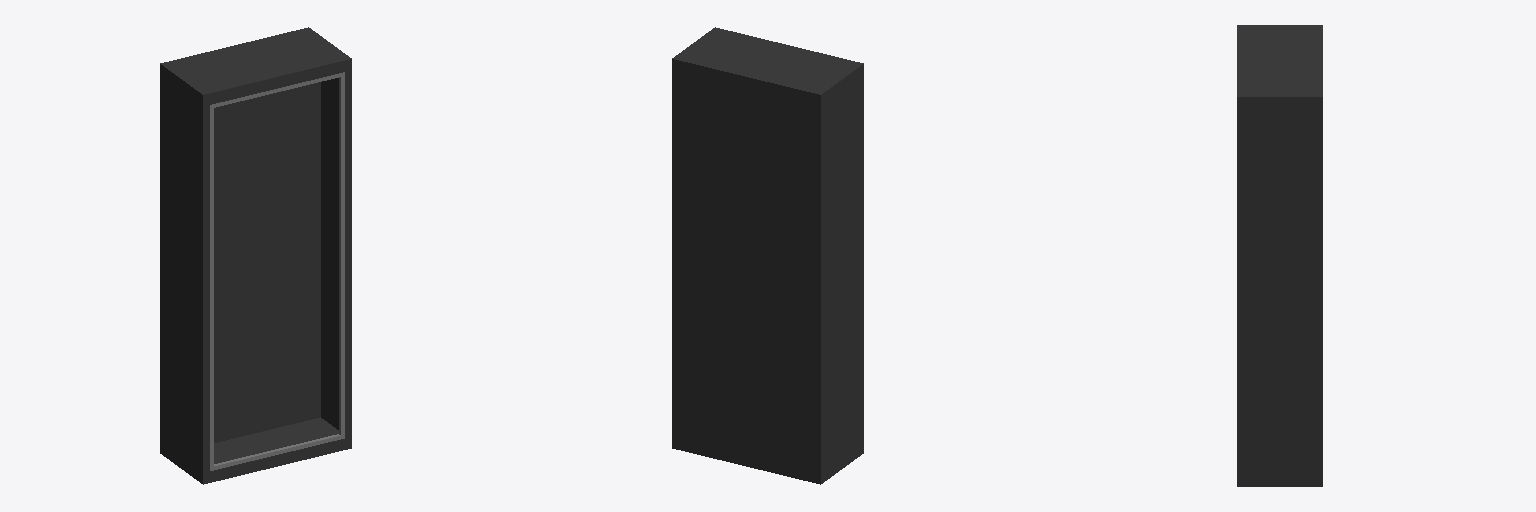
3 renders of one model, left to right at view 1: azimuth 30°, elevation 25°; view 2: azimuth 150°, elevation 25°; view 3: azimuth 270°, elevation 25°, orthographic.
Visible parts, largest first — view 1: safe_open_82; view 2: safe_open_82; view 3: safe_open_82.
Part boxes in pixels (x1,y1,x2,y2): safe_open_82: (160, 27, 351, 484); safe_open_82: (672, 27, 863, 484); safe_open_82: (1237, 25, 1322, 486).
Bounding box in the file's own units: 4 × 10 × 2.
Materials: 1 (1 with a texture image).